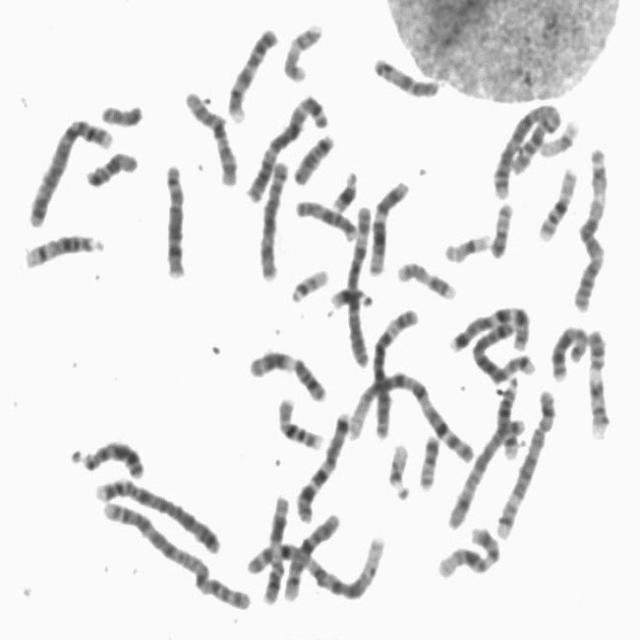A1: (342, 364, 480, 464), (247, 525, 390, 602)
A2: (96, 489, 256, 614), (488, 97, 564, 201)
A3: (241, 86, 333, 205), (570, 139, 614, 313)
B4: (92, 469, 225, 556), (22, 109, 116, 229)
B5: (492, 382, 560, 541), (466, 315, 538, 384)
C10: (180, 83, 242, 188), (279, 506, 345, 603)
C11: (244, 342, 331, 404), (259, 486, 293, 607)
C12: (365, 171, 413, 277), (434, 518, 504, 580)
C6: (364, 298, 422, 439), (343, 198, 376, 368)
C7: (292, 403, 354, 524), (446, 296, 535, 354)
C8: (255, 153, 292, 281), (159, 155, 191, 282)
C9: (223, 20, 281, 124), (582, 321, 613, 441)
D13: (68, 431, 148, 480), (548, 324, 592, 385)
D14: (21, 225, 108, 270), (493, 369, 525, 461)
D15: (369, 49, 444, 100), (291, 192, 360, 242)
E16: (533, 158, 582, 242), (272, 388, 326, 452)
E17: (392, 253, 460, 302), (280, 15, 326, 83)
E18: (289, 126, 338, 188), (80, 143, 142, 190)
F19: (535, 112, 583, 158), (440, 224, 494, 264)
F20: (486, 194, 517, 260), (414, 425, 443, 492)
G21: (327, 163, 362, 214), (326, 280, 376, 312)
G22: (383, 436, 415, 502), (286, 260, 332, 304)
X: (443, 410, 529, 531)
Y: (96, 94, 148, 129)
